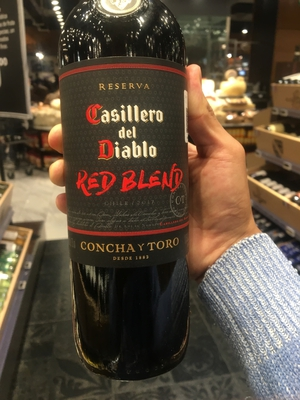casillero del diablo red blend: (51, 13, 200, 358)
